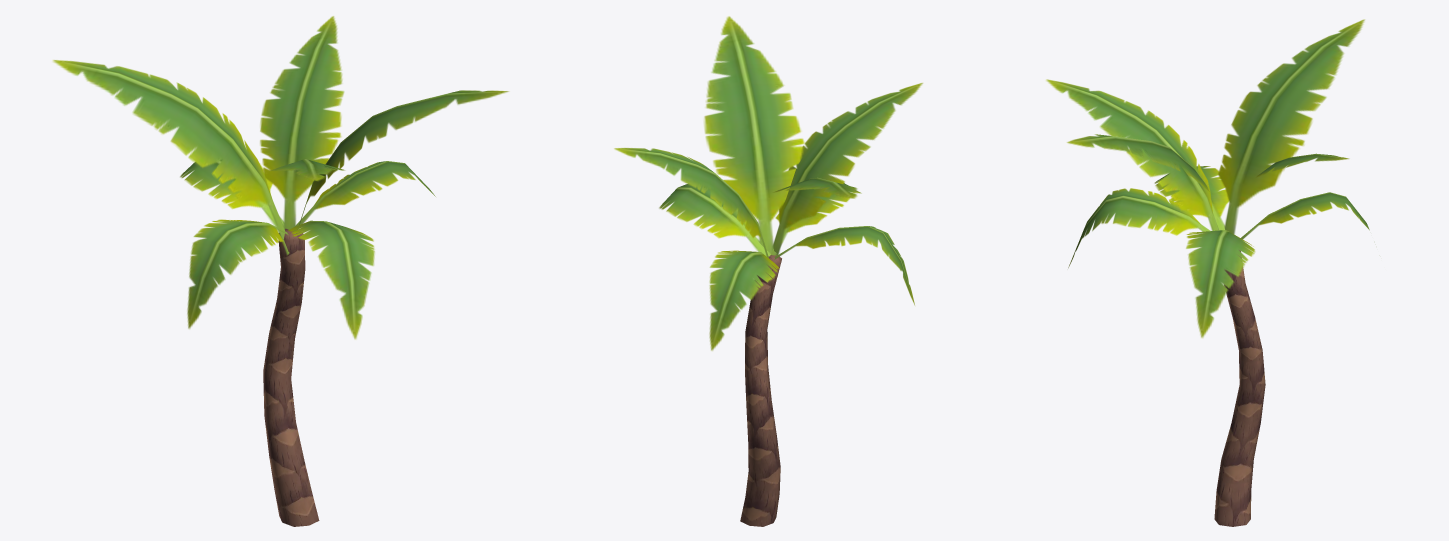
File: palm-trees-1.glb
The picture shows the model from 3 angles, left to right: view 1: azimuth 30°, elevation 25°; view 2: azimuth 150°, elevation 25°; view 3: azimuth 270°, elevation 25°; orthographic projection. The views are drawn at different scales.
Visible parts, largest first — view 1: PalmTree_3; view 2: PalmTree_3; view 3: PalmTree_3.
Boxes of the visible parts, x1,y1,x2,y2 form: PalmTree_3: (53, 16, 508, 526); PalmTree_3: (614, 16, 922, 526); PalmTree_3: (1046, 19, 1369, 526).
Size of the model in its own units: 4.47 by 4.67 by 4.22.
2 materials, 2 textured.
